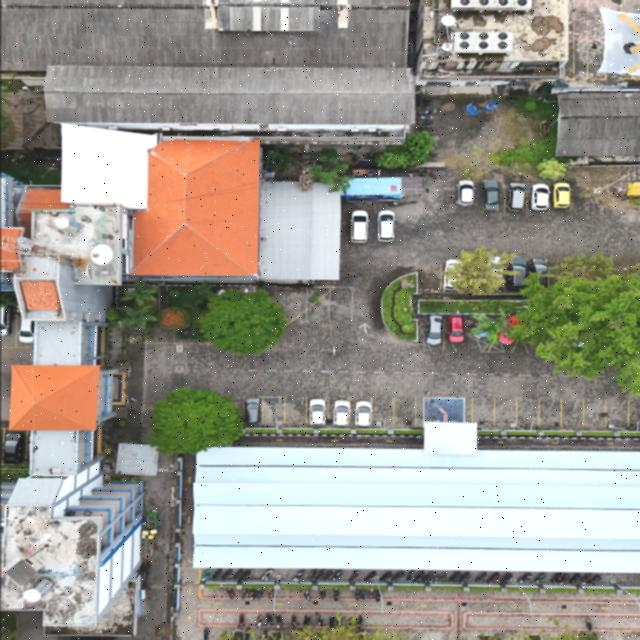Tree: (143, 382, 249, 456), (195, 284, 285, 362), (438, 244, 514, 304), (375, 126, 447, 178)
